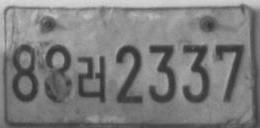2: (115, 44, 143, 103)
3: (181, 43, 210, 103), (148, 44, 176, 103)
7: (214, 43, 245, 102)
8: (43, 43, 73, 104), (11, 43, 39, 102)
러: (76, 55, 107, 102)
